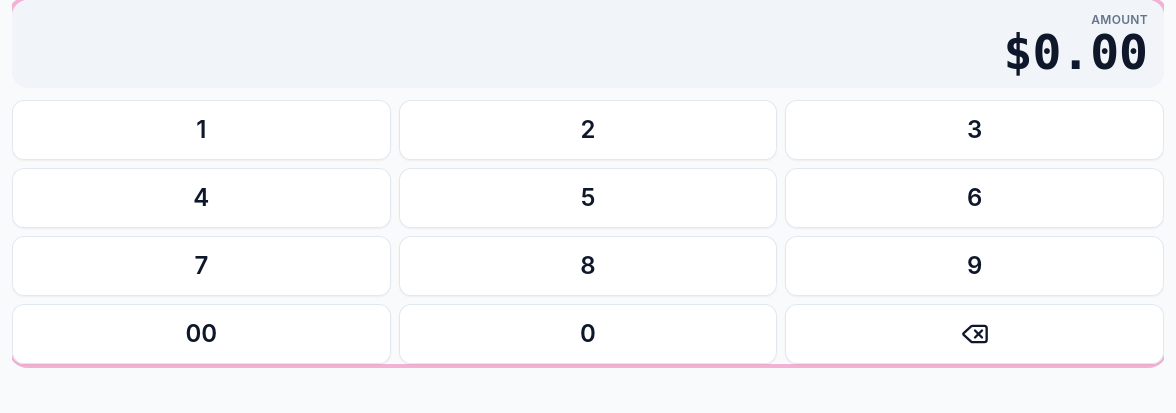
Test: AmountKeypad › builds an amount from taps and warns when over balance
This screenshot has width=1176, height=413.
Click the button "2" at x=588, y=130, box [399,100,777,160]
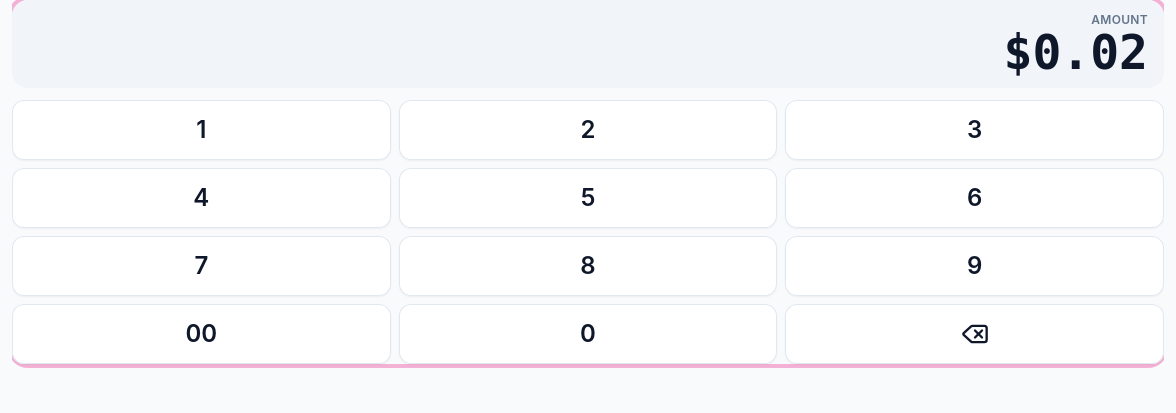
Click the button "5" at x=588, y=198, box [399,168,777,228]
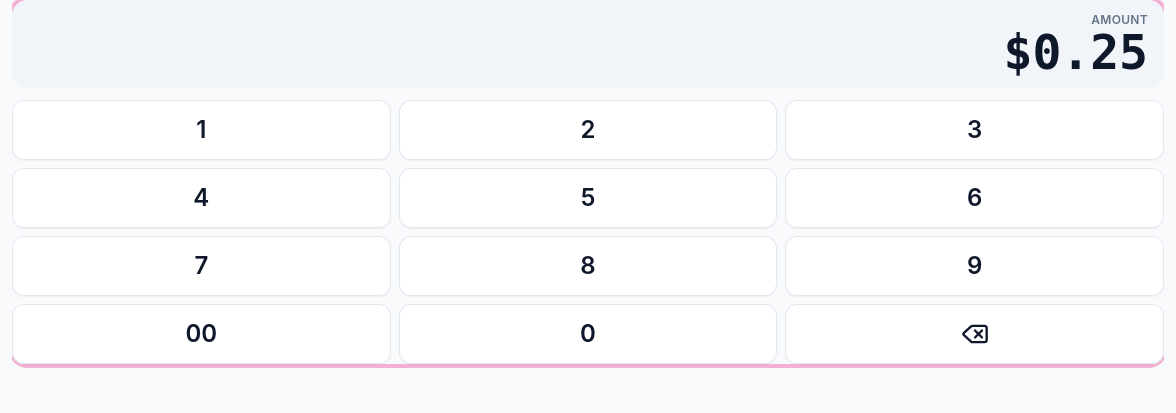
Click the button "0" at x=588, y=334, box [399,304,777,364]
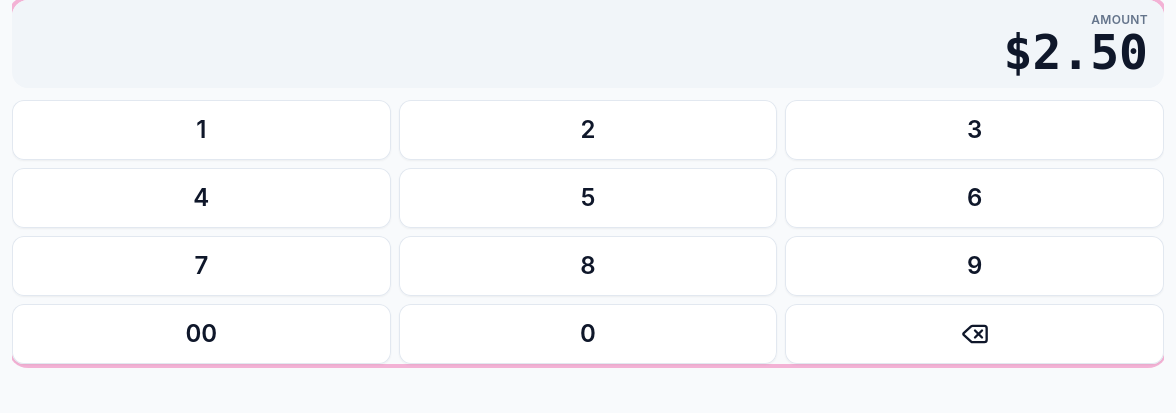
Click the button "0" at x=588, y=334, box [399,304,777,364]
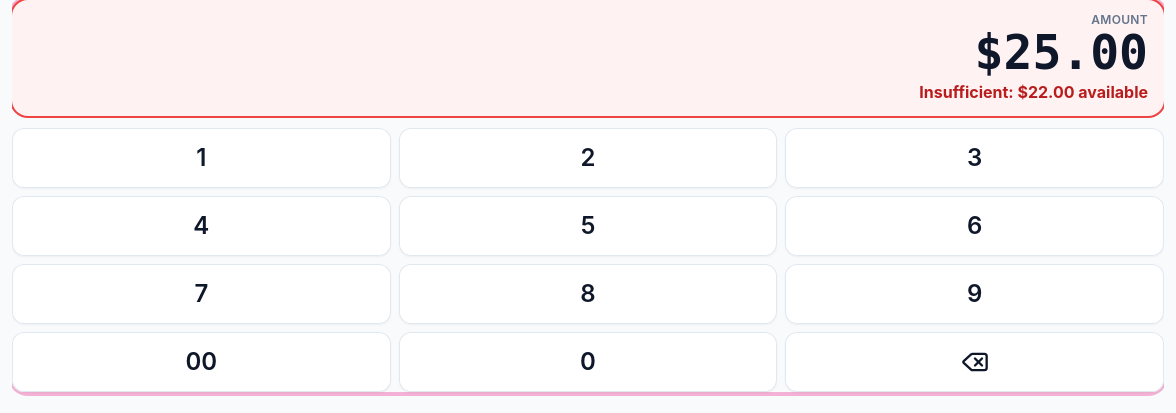
Now the text "$25.00" is shown, box [975,24,1148,80]
Now the message reads "Insufficient: $22.00 available", box [919,82,1148,102]
Click the button named "Backspace" at x=975, y=362, box [785,332,1164,392]
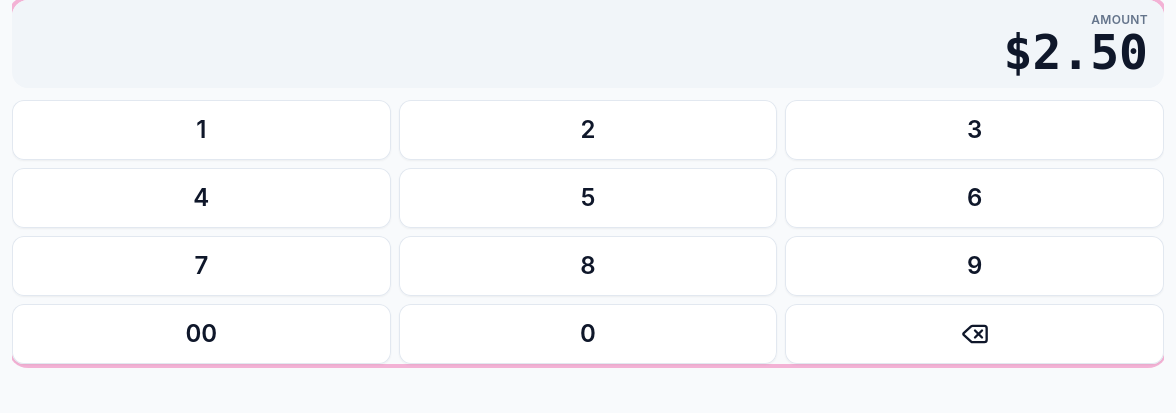
Now the text "$2.50" is shown, box [1004,24,1148,80]
